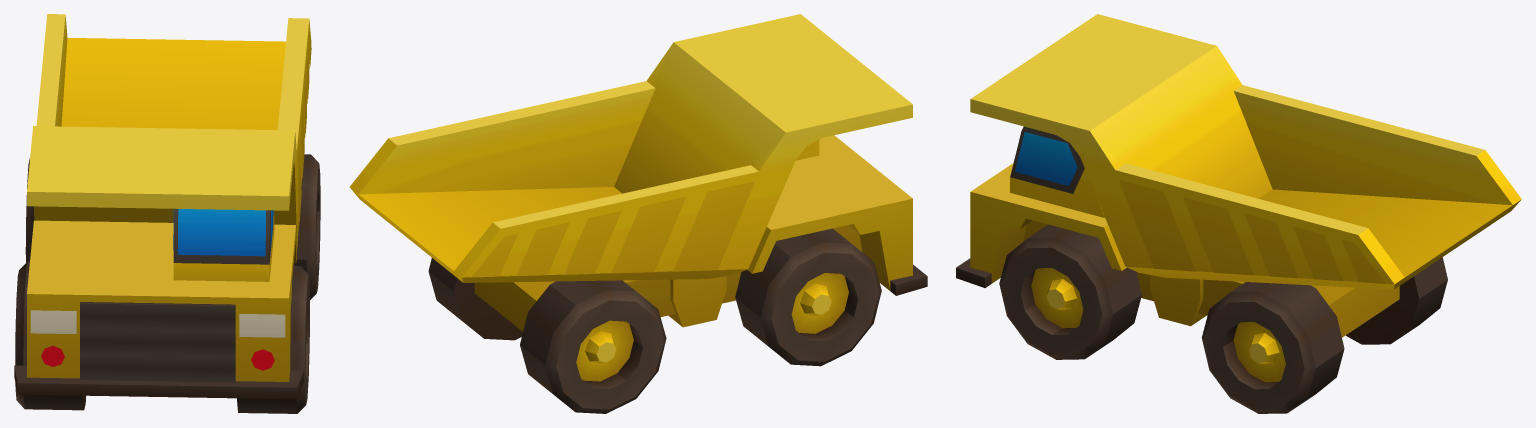
The model's file is Truck toy.fbx.
3 views of the same model, side by side, from view 1: azimuth 30°, elevation 25°; view 2: azimuth 150°, elevation 25°; view 3: azimuth 270°, elevation 25° (orthographic). The views are drawn at different scales.
Visible parts, largest first — view 1: Truck toy; view 2: Truck toy; view 3: Truck toy.
Part boxes in pixels (<box>): Truck toy: <box>14,14,320,413</box>; Truck toy: <box>349,14,927,413</box>; Truck toy: <box>956,14,1521,413</box>.
Size of the model in its own units: 28.44 by 15.32 by 33.35.
1 material, 1 textured.
